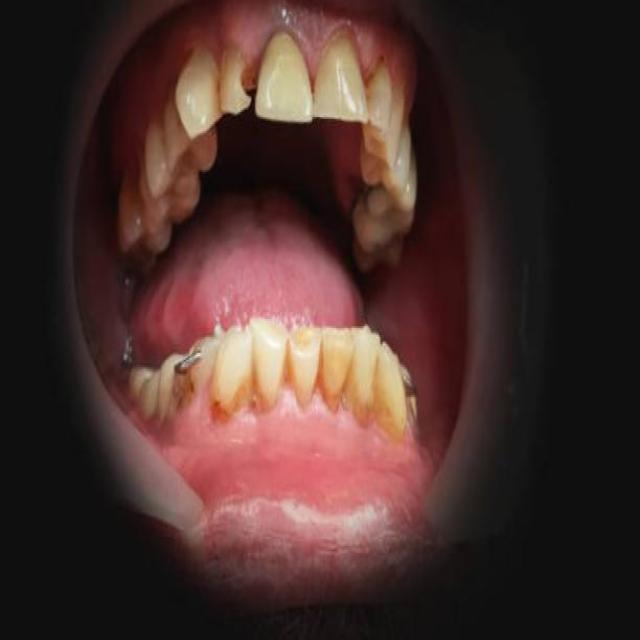caries: (164, 362, 199, 420), (204, 381, 236, 436), (232, 50, 260, 105)
